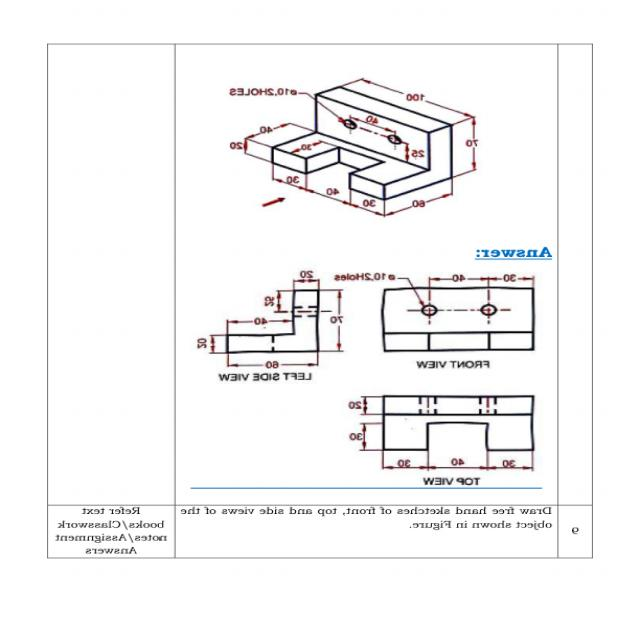Drawings: (213, 65, 500, 228), (336, 386, 542, 474), (353, 264, 550, 356), (190, 262, 348, 372)
